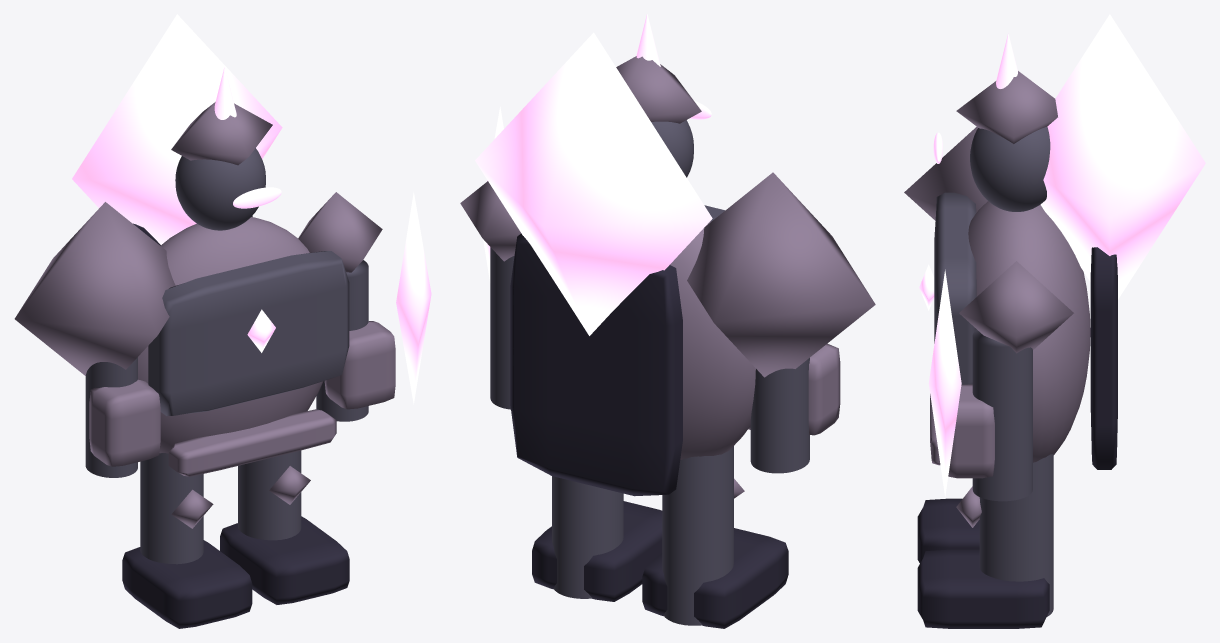
The model's file is annihilator.glb.
3 views of the same model, side by side, from view 1: azimuth 30°, elevation 25°; view 2: azimuth 150°, elevation 25°; view 3: azimuth 270°, elevation 25° (orthographic). The views are drawn at different scales.
Visible parts, largest first — view 1: breastplate, backSpikes, shoulder-1, torso, leftBoot, rightBoot, ExtraBelt, ExtraForearmL, leftLeg, head, ExtraForearmR, rightLeg (+10 smaller); view 2: backSpikes, cape, shoulder-1, torso, leftLeg, leftBoot, rightLeg, arm-1, rightBoot, helmet, arm1, ExtraForearmL (+3 smaller); view 3: backSpikes, torso, rightBoot, arm1, rightLeg, cape, shoulder1, breastplate, head, helmet, blade, ExtraForearmR (+5 smaller).
Part boxes in pixels (x1=…): breastplate: x1=148, y1=251, x2=349, y2=415; backSpikes: x1=72, y1=14, x2=282, y2=244; shoulder-1: x1=14, y1=202, x2=175, y2=375; torso: x1=138, y1=217, x2=323, y2=453; leftBoot: x1=122, y1=540, x2=252, y2=628; rightBoot: x1=220, y1=516, x2=349, y2=604; ExtraBelt: x1=168, y1=409, x2=336, y2=476; ExtraForearmL: x1=89, y1=379, x2=160, y2=466; leftLeg: x1=140, y1=453, x2=203, y2=564; head: x1=175, y1=148, x2=265, y2=230; ExtraForearmR: x1=324, y1=321, x2=395, y2=409; rightLeg: x1=238, y1=450, x2=301, y2=540; backSpikes: x1=475, y1=32, x2=712, y2=335; cape: x1=510, y1=233, x2=682, y2=496; shoulder-1: x1=687, y1=172, x2=875, y2=377; torso: x1=670, y1=221, x2=755, y2=459; leftLeg: x1=662, y1=446, x2=733, y2=625; leftBoot: x1=642, y1=528, x2=788, y2=628; rightLeg: x1=552, y1=476, x2=623, y2=598; arm-1: x1=750, y1=358, x2=809, y2=473; rightBoot: x1=532, y1=501, x2=662, y2=601; helmet: x1=616, y1=56, x2=701, y2=123; arm1: x1=490, y1=247, x2=514, y2=409; ExtraForearmL: x1=808, y1=343, x2=840, y2=435; backSpikes: x1=1040, y1=14, x2=1205, y2=299; torso: x1=968, y1=201, x2=1090, y2=462; rightBoot: x1=917, y1=549, x2=1049, y2=628; arm1: x1=972, y1=330, x2=1032, y2=501; rightLeg: x1=979, y1=454, x2=1053, y2=616; cape: x1=1090, y1=247, x2=1117, y2=469; shoulder1: x1=959, y1=261, x2=1073, y2=353; breastplate: x1=934, y1=192, x2=976, y2=384; head: x1=970, y1=127, x2=1050, y2=211; helmet: x1=956, y1=71, x2=1057, y2=143; blade: x1=928, y1=269, x2=961, y2=497; ExtraForearmR: x1=948, y1=384, x2=994, y2=478.
Bounding box in the file's own units: 1.73 × 2.3 × 1.1.
